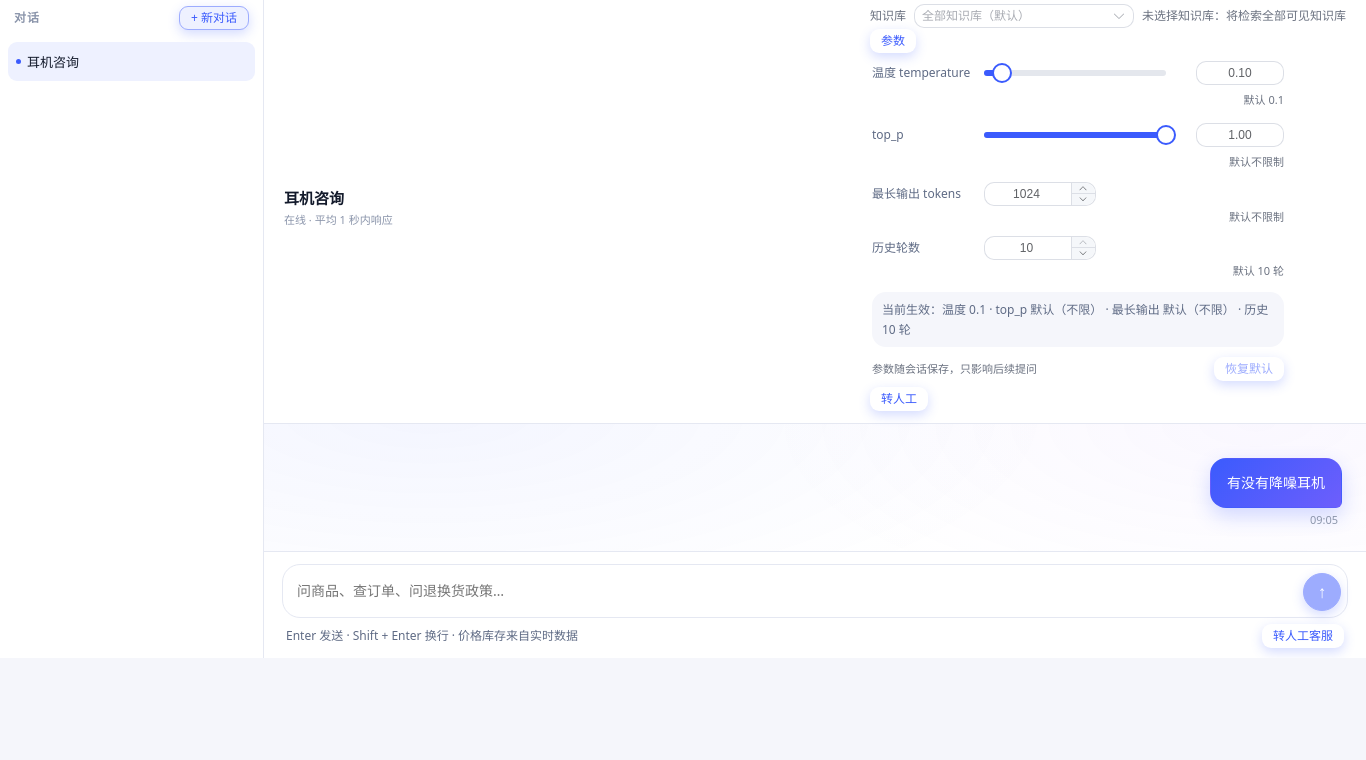
Test: ChatView 集成 › 用户停止后回到历史视图
This screenshot has width=1366, height=760.
Type "长问题" into the text box with placeholder "问商品、查订单、问退换货政策…" at (795, 591), box [297,571,1293,611]
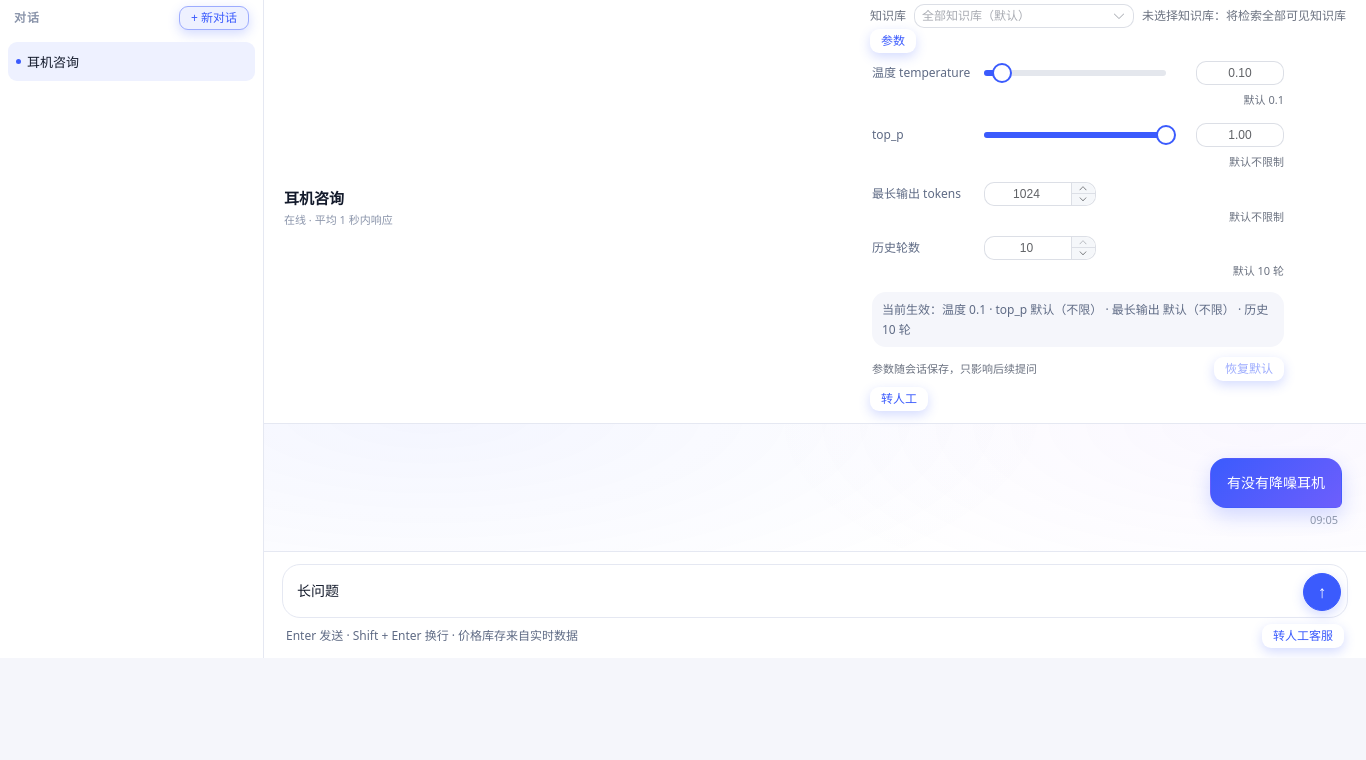
Press Enter in the text box named "消息输入框", box [297,571,1293,611]
(page scrolled)
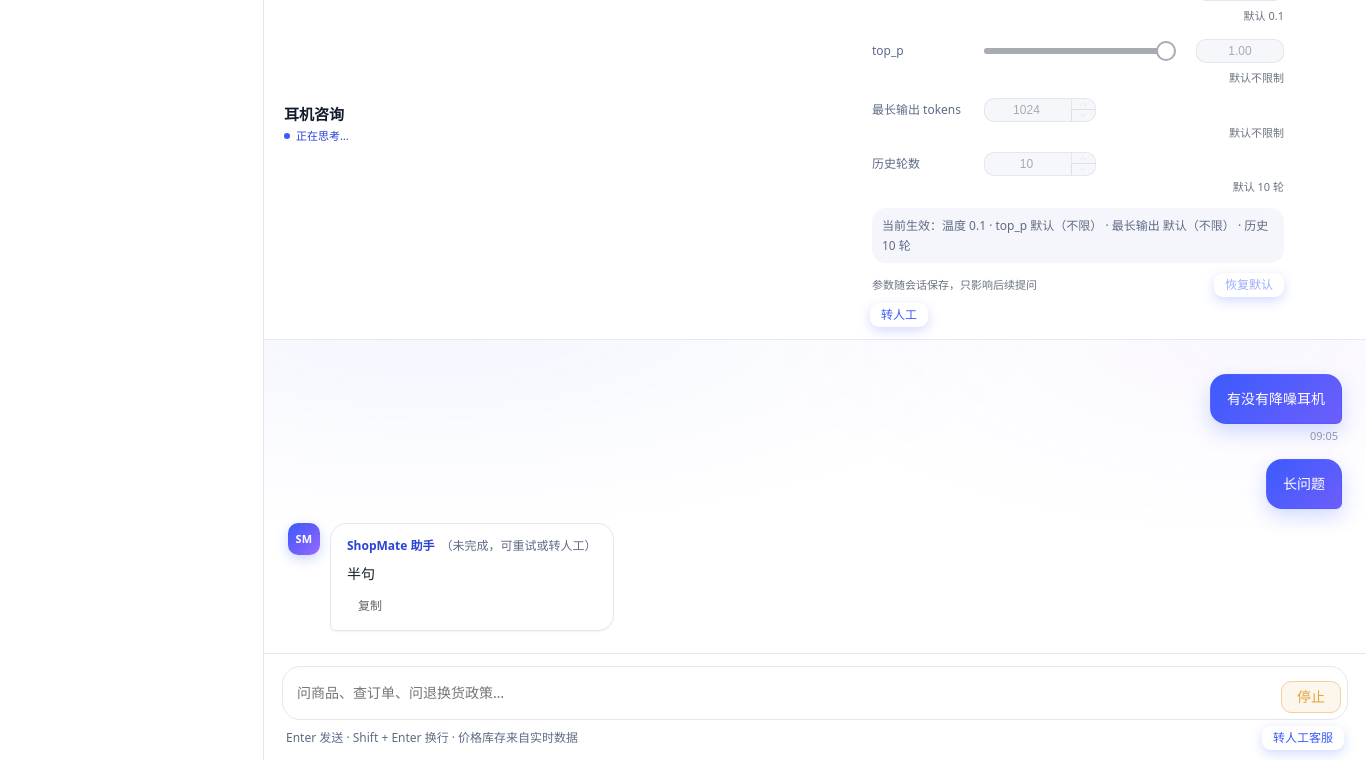
Check: the text "正在思考" is shown, box [296,128,349,143]
Click the button "停止" at (1311, 697), box [1281,681,1341,713]
(page scrolled)
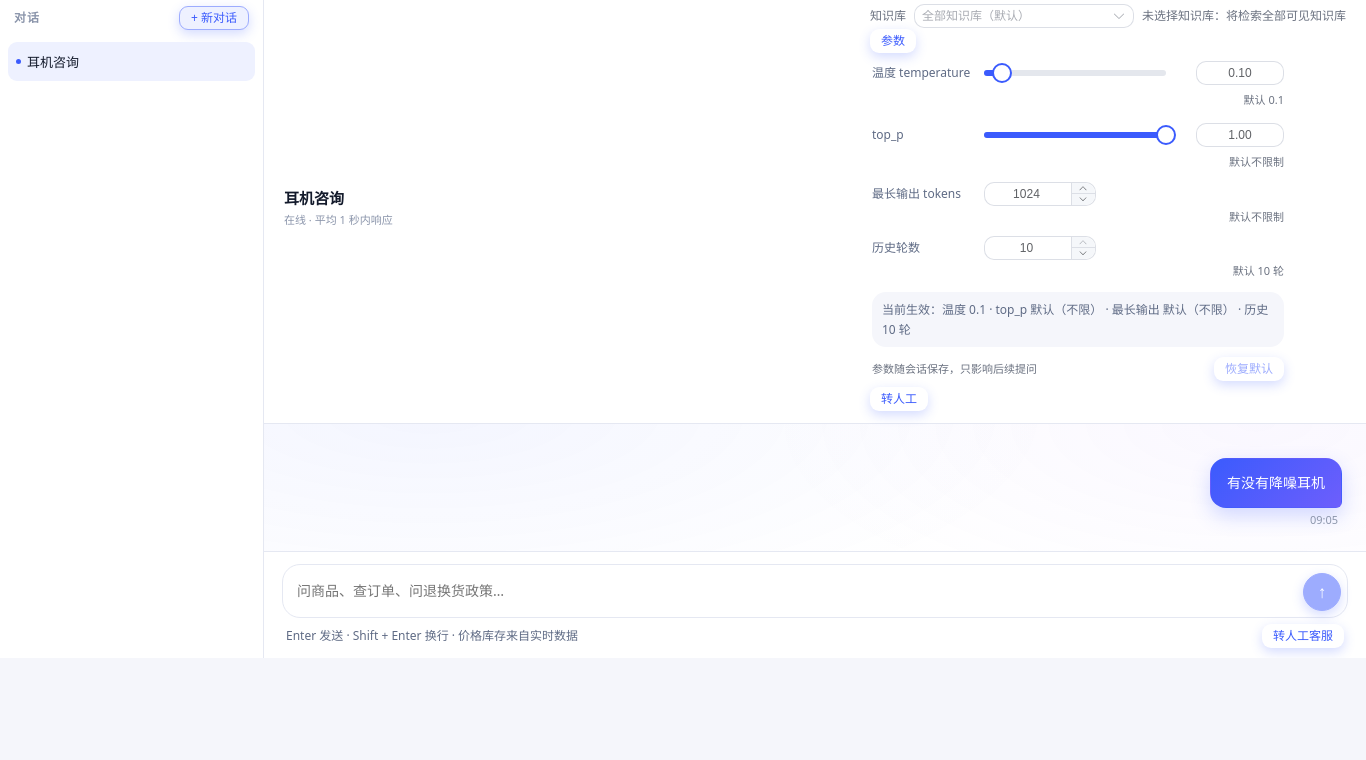
Check: the text "正在思考" is gone
